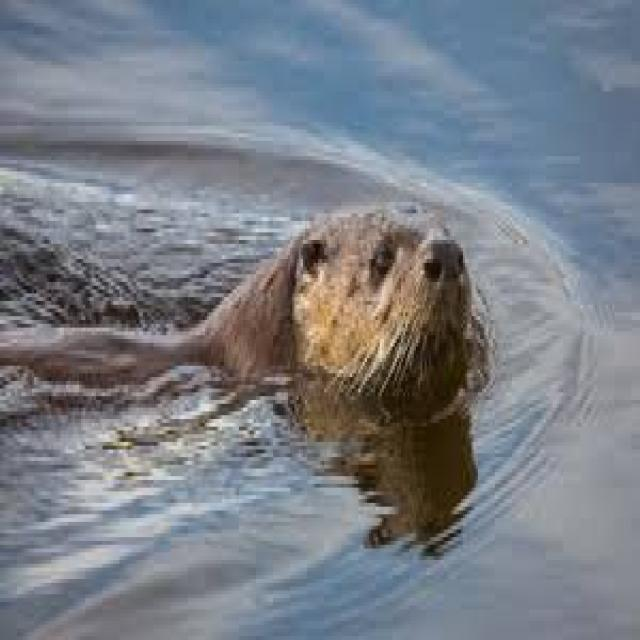Otter: (3, 199, 478, 393)
